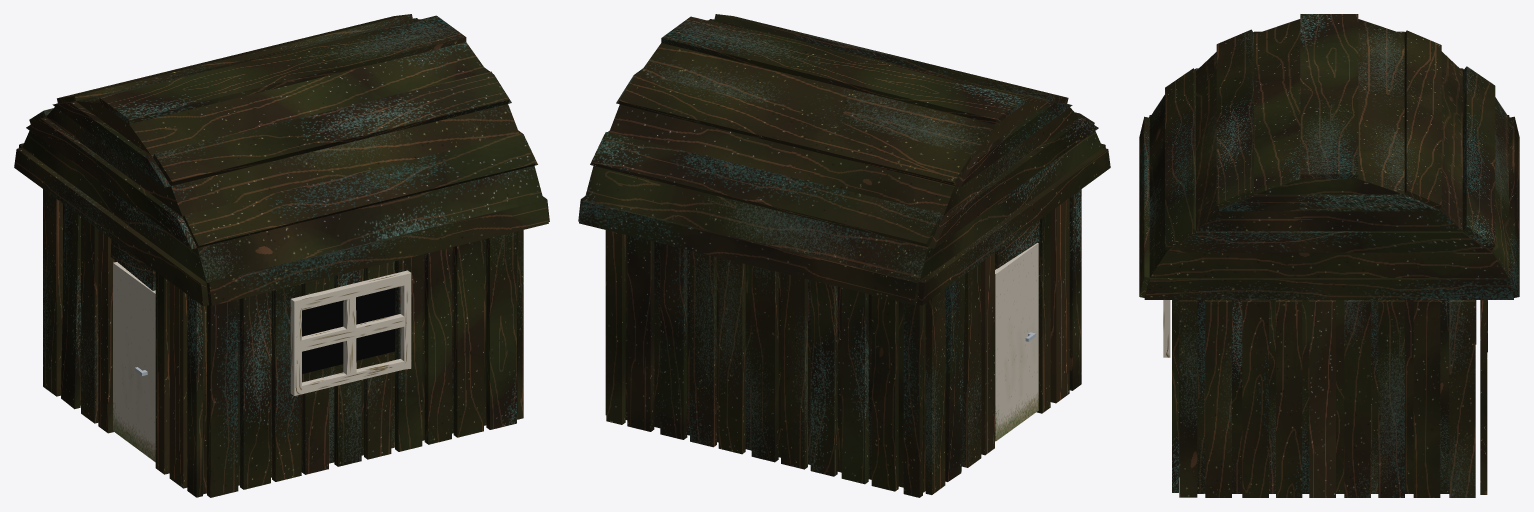
File: Model_barak.fbx
3 renders of one model, left to right at view 1: azimuth 30°, elevation 25°; view 2: azimuth 150°, elevation 25°; view 3: azimuth 270°, elevation 25°, orthographic. The views are drawn at different scales.
Parts seen in each view (by area): view 1: Mesh_barak; view 2: Mesh_barak; view 3: Mesh_barak.
Part boxes in pixels (bbox=[...]): Mesh_barak: bbox=[14, 14, 549, 497]; Mesh_barak: bbox=[578, 14, 1110, 497]; Mesh_barak: bbox=[1139, 14, 1519, 497].
Size of the model in its own units: 393 by 373 by 404.
